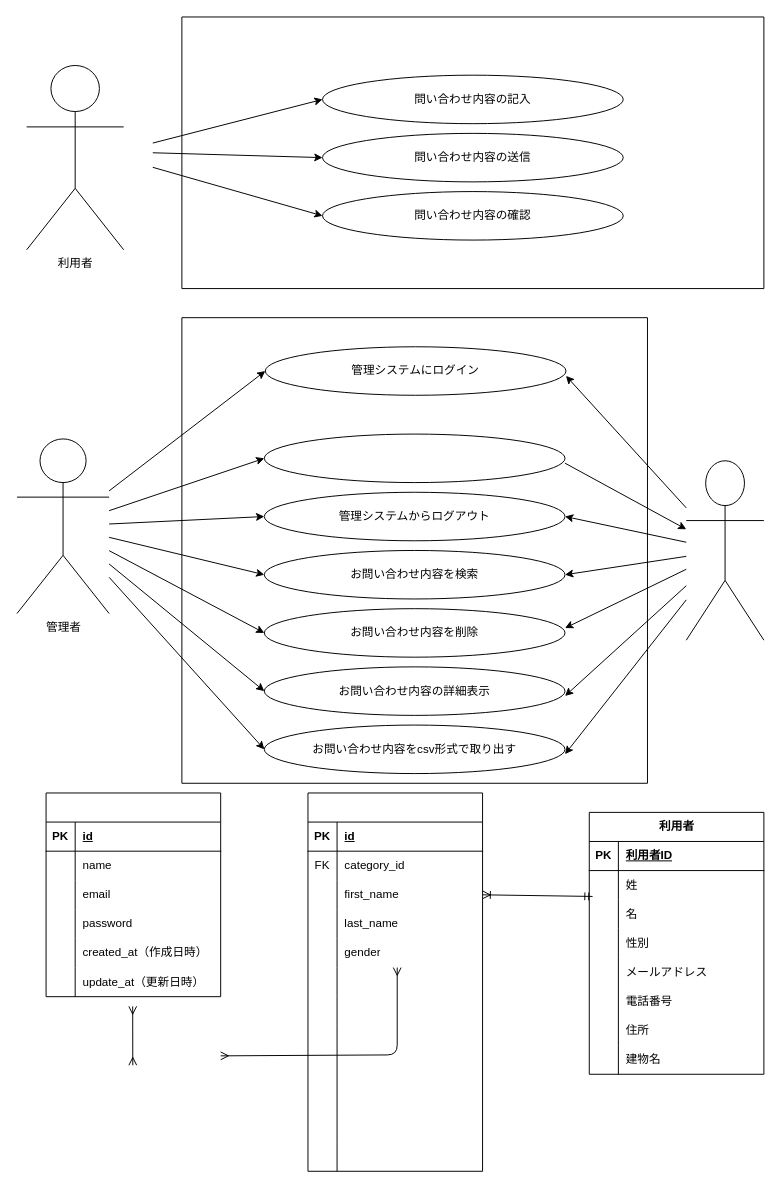
Some shapes in this 781 by 1188 pixel diagram are drawn without their labels. The box of each missing label's shape, as (x1, y1, x2, y2) in pixels:
contacts: (307, 792, 483, 1171)
users: (45, 792, 221, 997)
問い合わせ管理システム: (181, 317, 647, 783)
問い合わせ送信システム: (181, 16, 764, 289)
新規ユーザーの作成・登録: (263, 433, 565, 483)
新規管理者: (685, 460, 764, 640)
